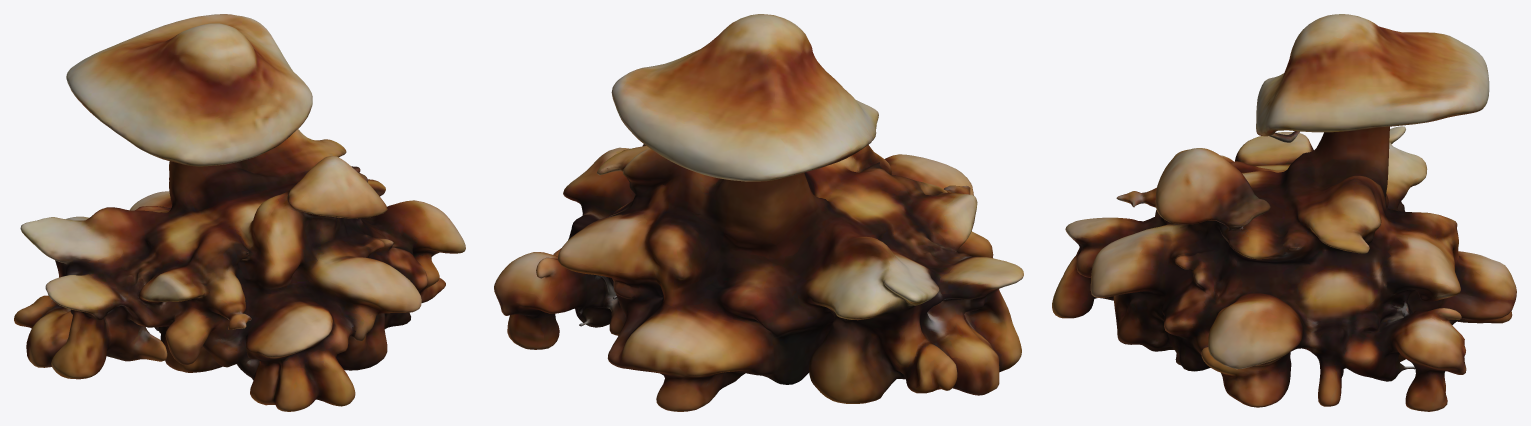
Rendered from 1552bbbf1db9_bunch_of_brown_mush.fbx.
3 views of the same model, side by side, from view 1: azimuth 30°, elevation 25°; view 2: azimuth 150°, elevation 25°; view 3: azimuth 270°, elevation 25° (orthographic). The views are drawn at different scales.
Visible parts, largest first — view 1: high_poly; view 2: high_poly; view 3: high_poly.
Part boxes in pixels (x1=…): high_poly: x1=14, y1=14, x2=465, y2=411; high_poly: x1=494, y1=14, x2=1023, y2=411; high_poly: x1=1052, y1=14, x2=1516, y2=411.
Size of the model in its own units: 100 by 69.94 by 96.62.
